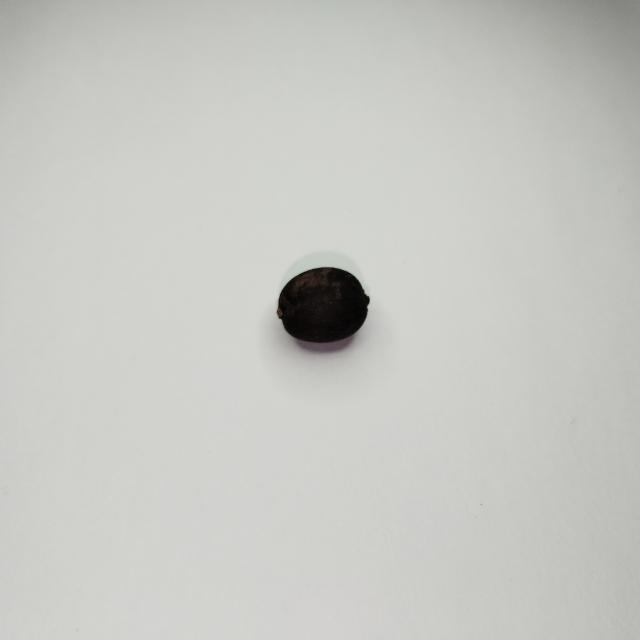Danado: (277, 267, 368, 343)
